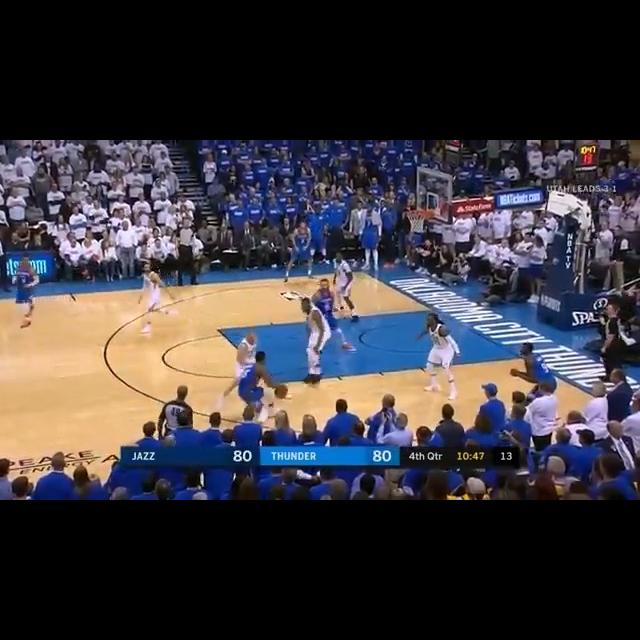basketball: (274, 385, 289, 397)
hoop: (402, 207, 435, 235)
